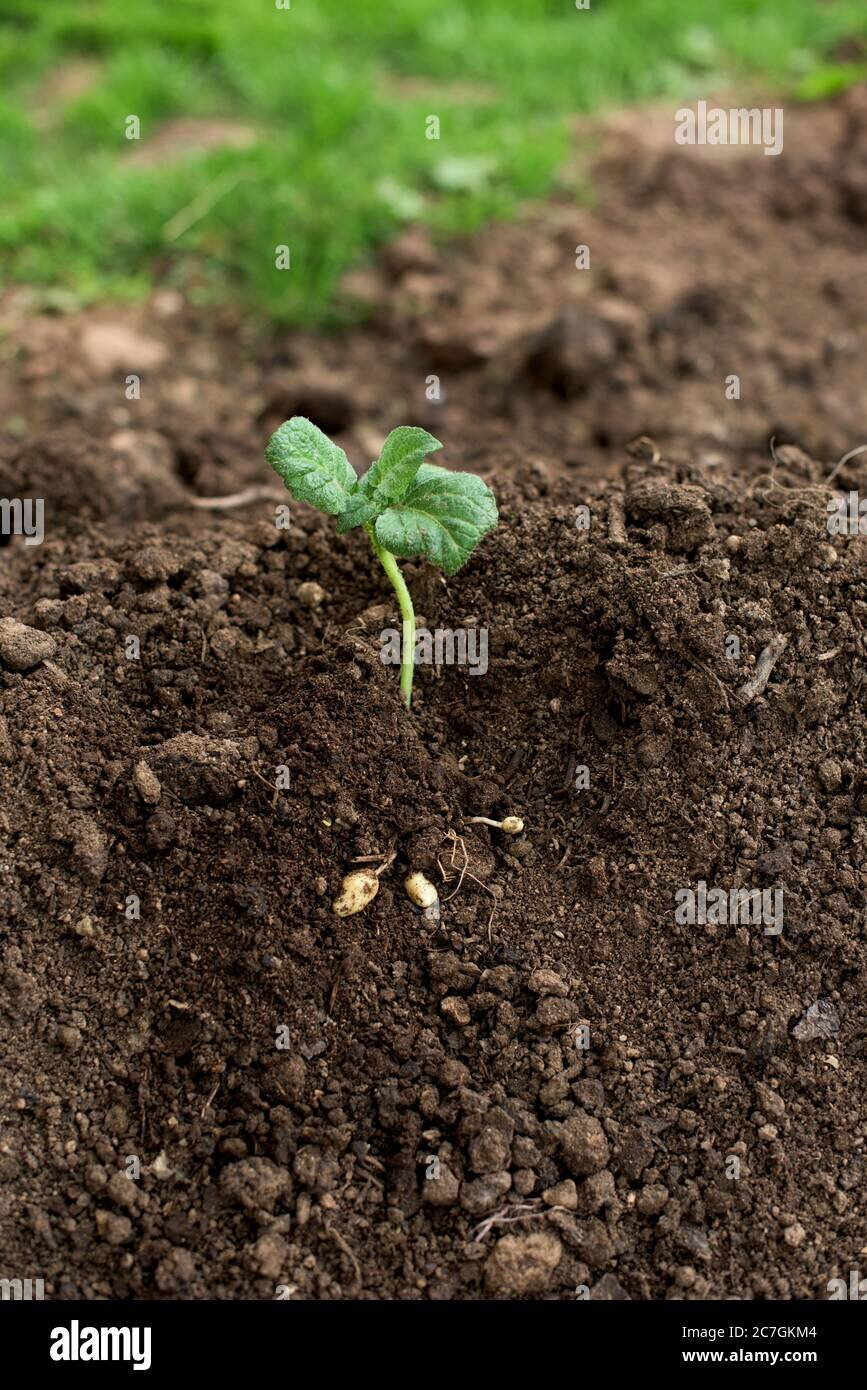potato_plant: (260, 392, 495, 699)
